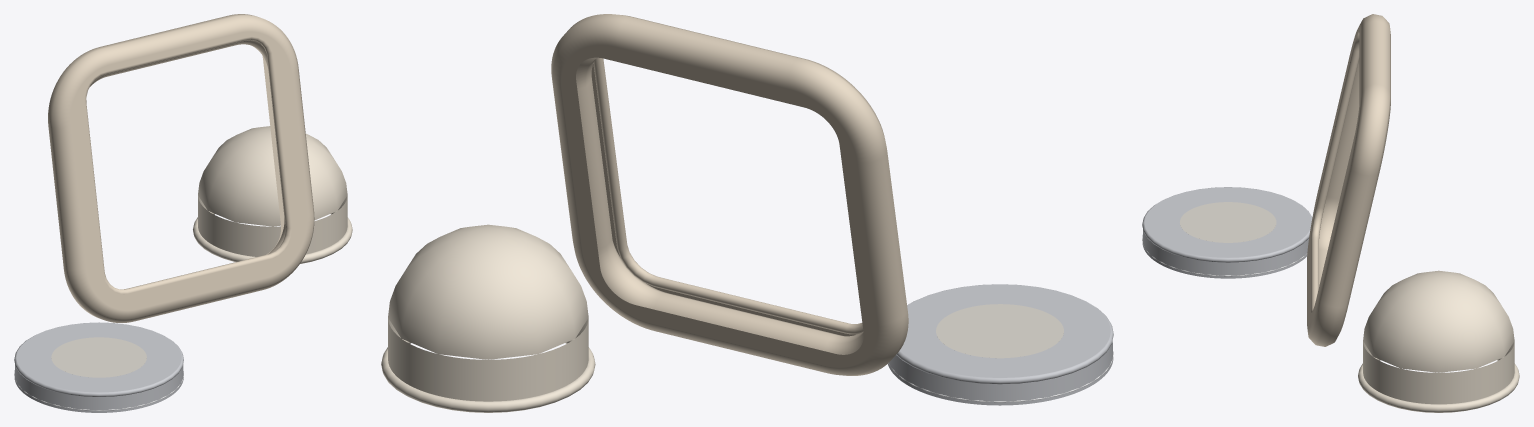
File: oat.glb
3 views of the same model, side by side, from view 1: azimuth 30°, elevation 25°; view 2: azimuth 150°, elevation 25°; view 3: azimuth 270°, elevation 25° (orthographic). The views are drawn at different scales.
Bounding box in the file's own units: 0.2847 × 0.1665 × 0.2187.
